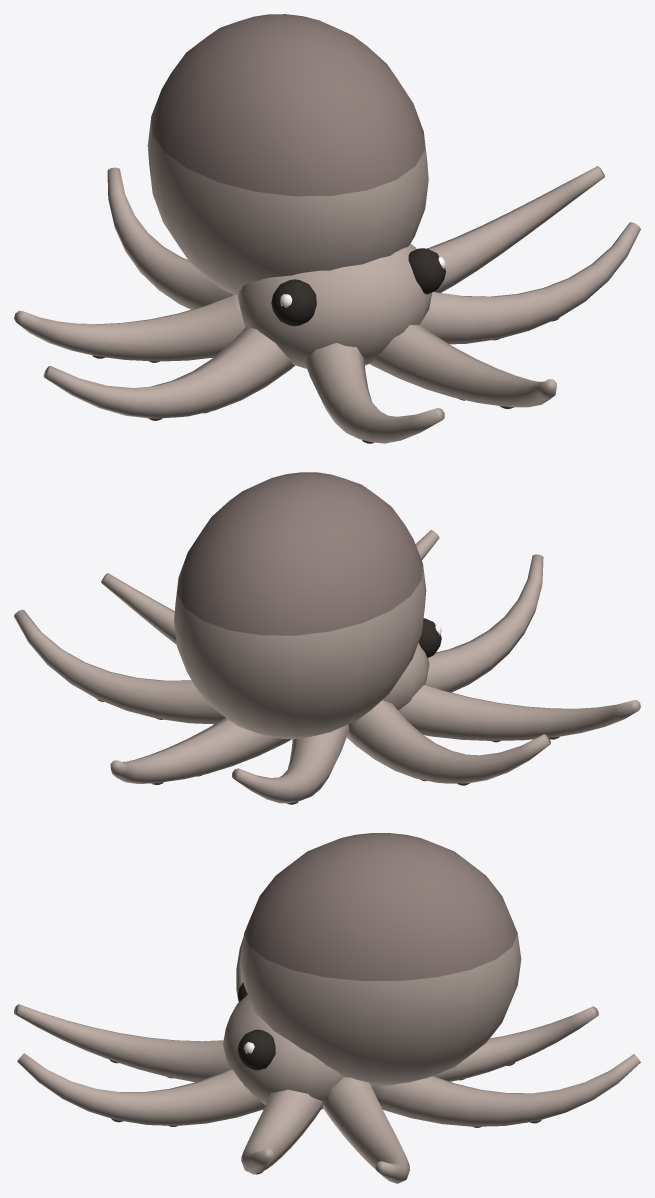
Rendered from sea-long-arm-octopus.glb.
3 views of the same model, one above another, from view 1: azimuth 30°, elevation 25°; view 2: azimuth 150°, elevation 25°; view 3: azimuth 270°, elevation 25° (orthographic). The views are drawn at different scales.
Visible parts, largest first — view 1: octopus; view 2: octopus; view 3: octopus.
Part boxes in pixels (bbox=[...]): octopus: bbox=[14, 14, 640, 443]; octopus: bbox=[14, 472, 640, 804]; octopus: bbox=[14, 833, 640, 1183].
Bounding box in the file's own units: 0.3674 × 0.1667 × 0.3644.
